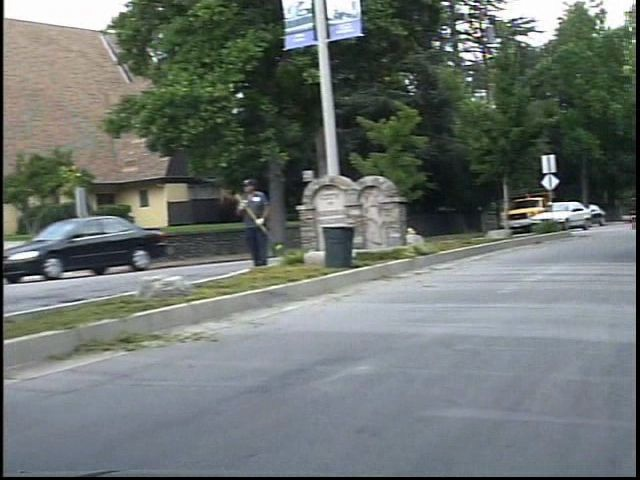person: (248, 176, 288, 270)
